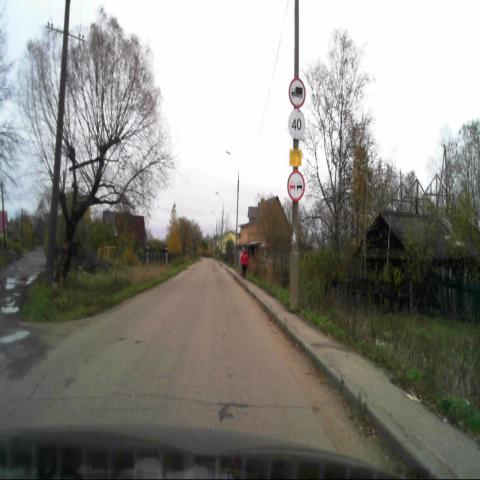3_4_1: (288, 78, 306, 108)
